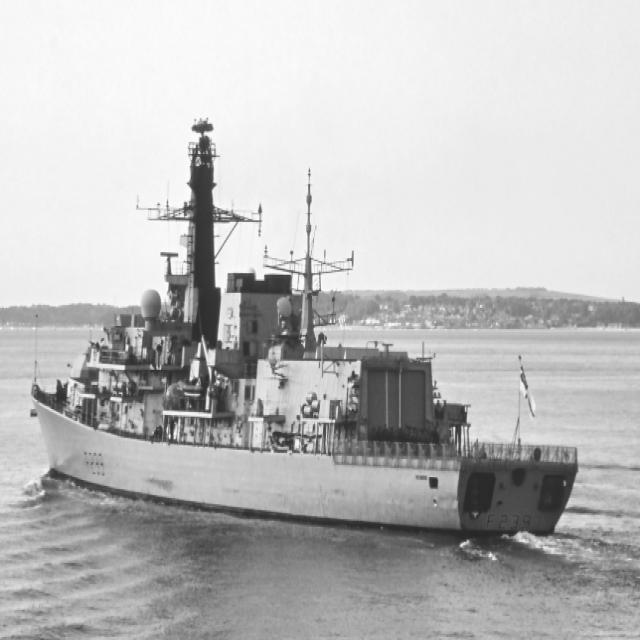Fragata: (28, 108, 581, 552)
